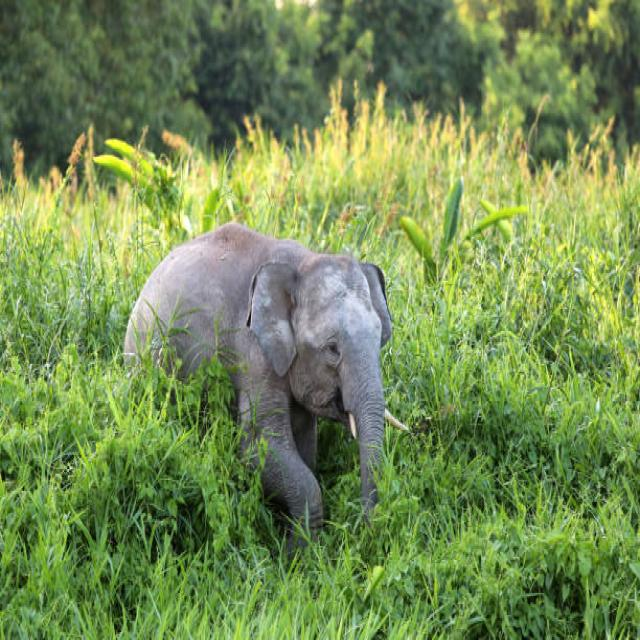Elephant: (123, 204, 410, 546)
